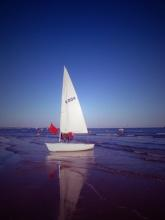fanchuan: (46, 68, 96, 150)
